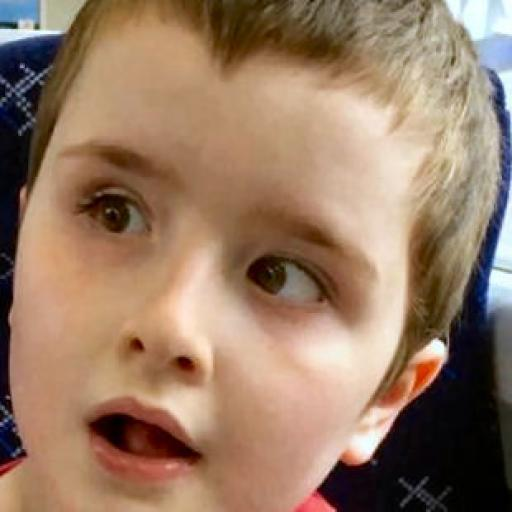Autism: (49, 16, 459, 504)
